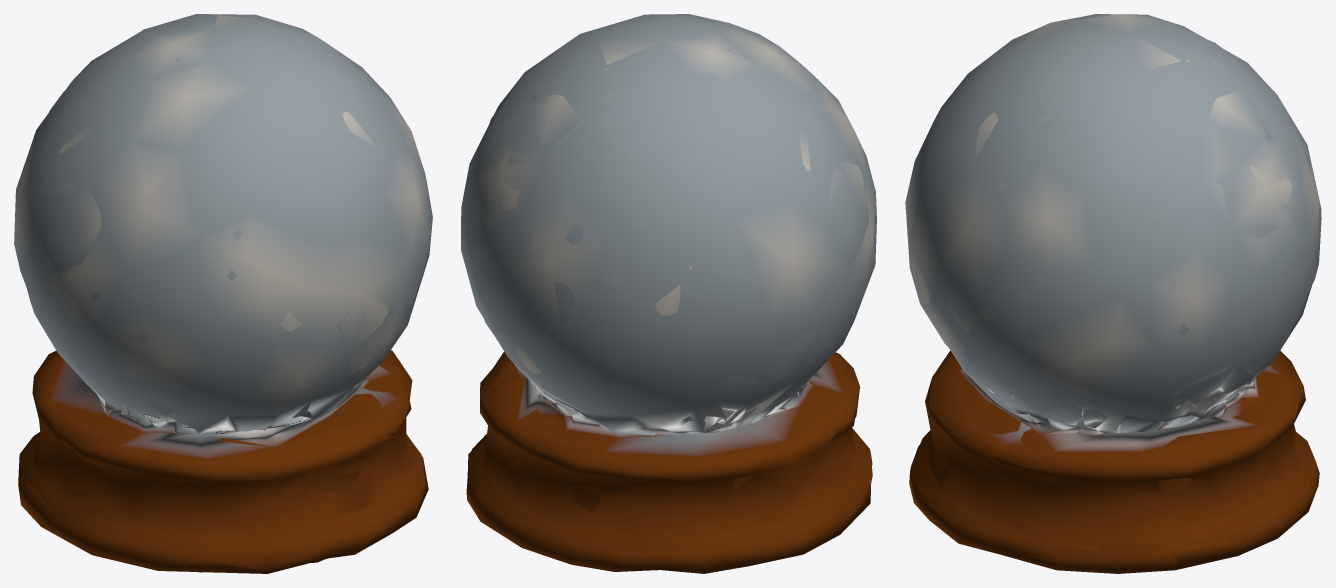
Rendered from gen3d-snow-globe-lod0.glb.
3 renders of one model, left to right at view 1: azimuth 30°, elevation 25°; view 2: azimuth 150°, elevation 25°; view 3: azimuth 270°, elevation 25°, orthographic.
Parts seen in each view (by area): view 1: part_0; view 2: part_0; view 3: part_0.
Boxes of the visible parts, x1,y1,x2,y2 form: part_0: (14,14,432,573); part_0: (461,14,876,573); part_0: (905,14,1321,573).
Bounding box in the file's own units: 0.8277 × 0.9939 × 0.8253.
